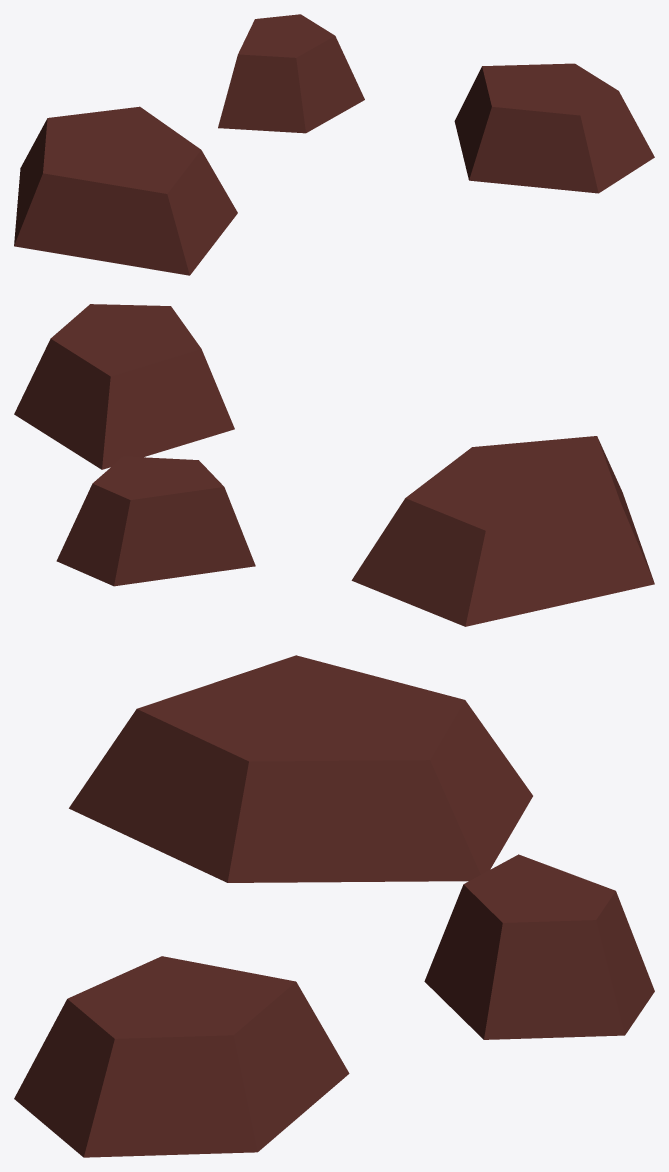
Rendered from SM_Prop_BloodPool_04.glb.
3 views of the same model, one above another, from view 1: azimuth 30°, elevation 25°; view 2: azimuth 150°, elevation 25°; view 3: azimuth 270°, elevation 25° (orthographic). The views are drawn at different scales.
Visible parts, largest first — view 1: SM_Prop_BloodPool_04; view 2: SM_Prop_BloodPool_04; view 3: SM_Prop_BloodPool_04.
Part boxes in pixels (x1=…): SM_Prop_BloodPool_04: x1=14, y1=14, x2=654, y2=275; SM_Prop_BloodPool_04: x1=14, y1=304, x2=654, y2=626; SM_Prop_BloodPool_04: x1=14, y1=655, x2=654, y2=1157.
Bounding box in the file's own units: 0.3955 × 0.0432 × 0.2522.
1 material, 1 textured.
